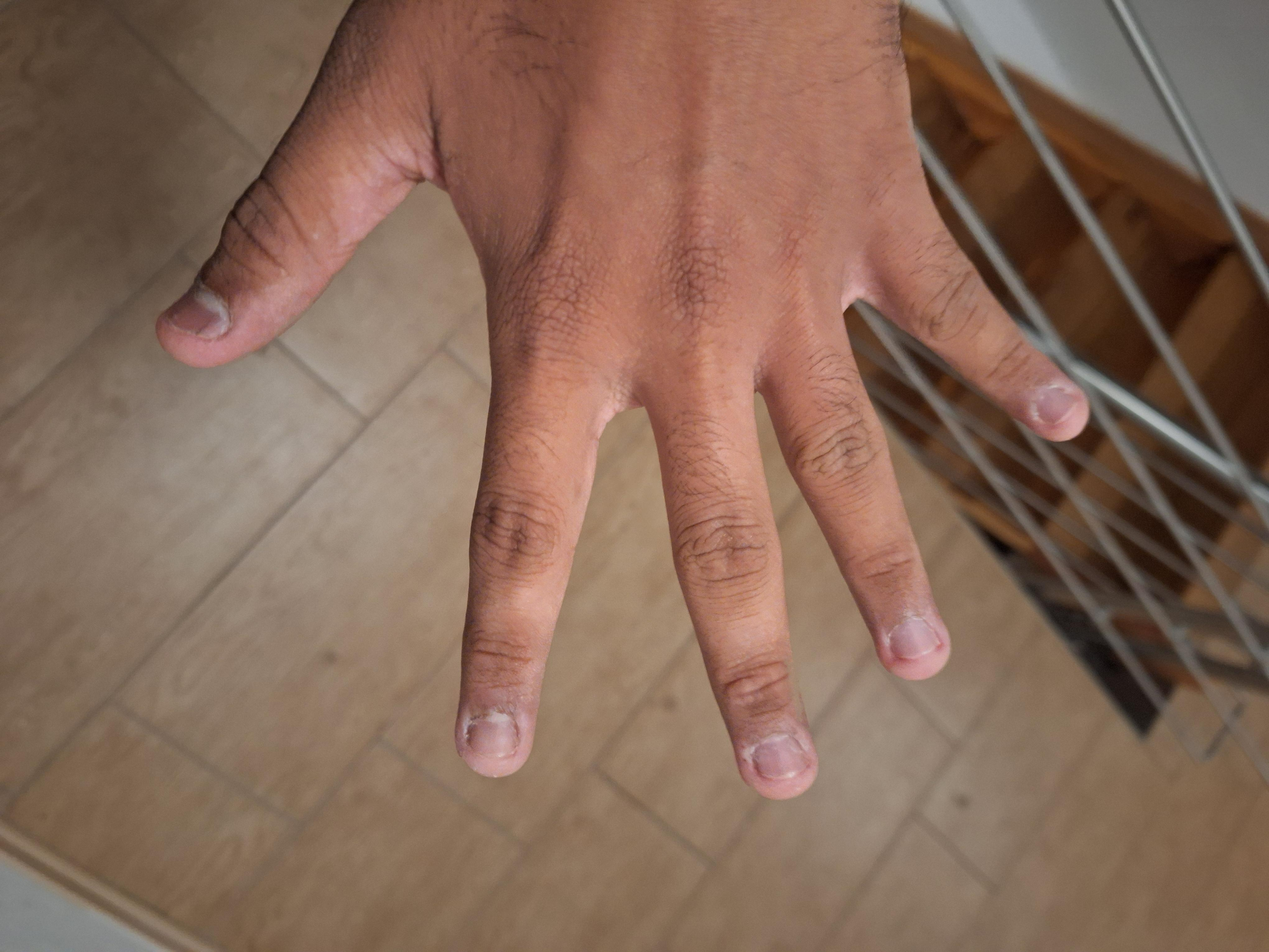Fingernail: (169, 293, 233, 339), (753, 736, 810, 778), (889, 617, 940, 659), (468, 714, 517, 757), (1037, 388, 1079, 426)
